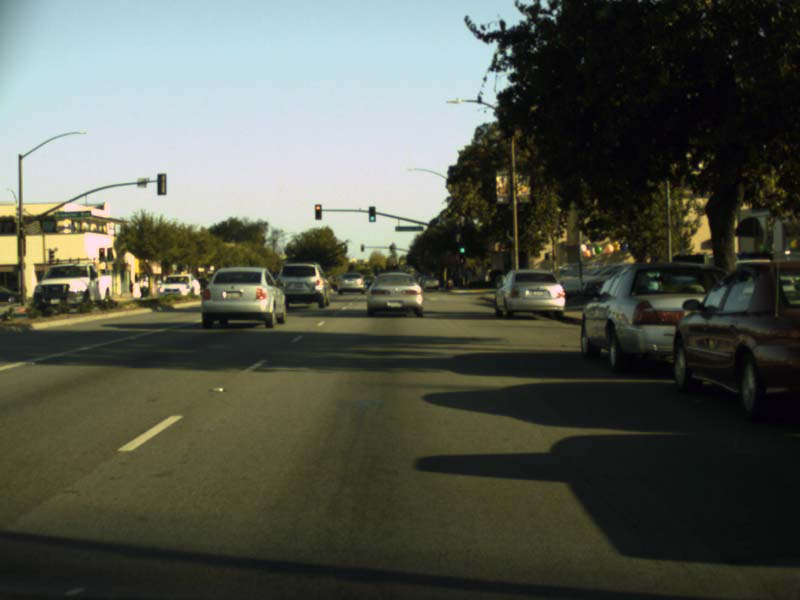Green: (368, 206, 375, 221), (458, 242, 466, 255)
Red: (314, 203, 321, 219)
